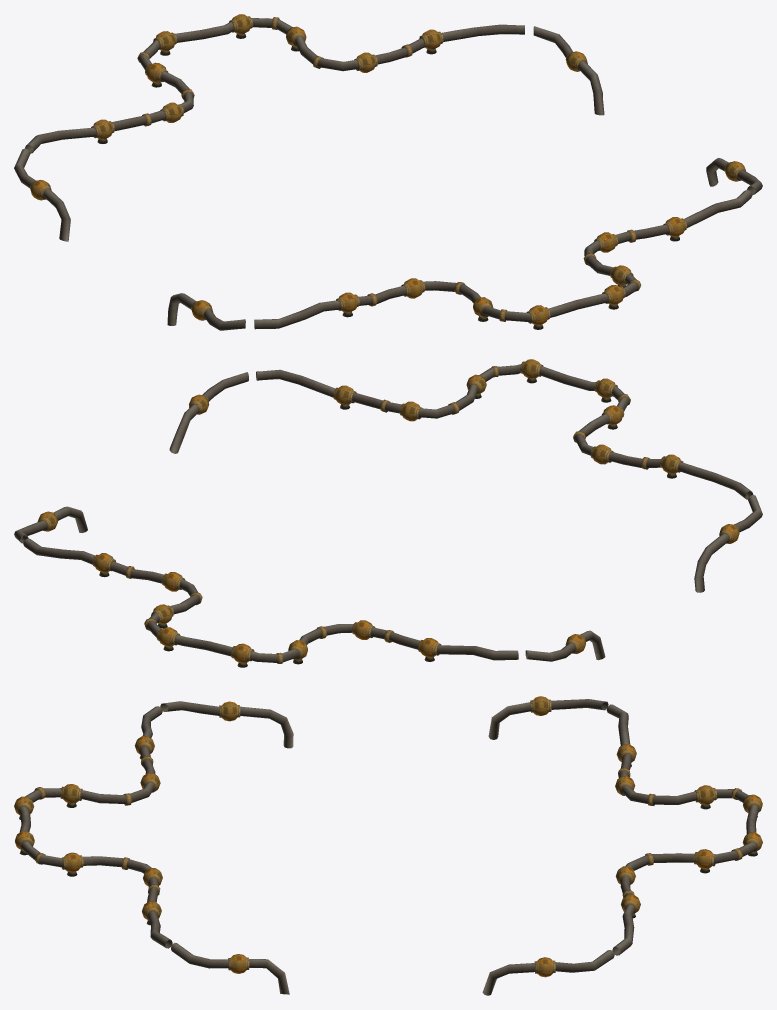
3 views of the same model, one above another, from view 1: azimuth 30°, elevation 25°; view 2: azimuth 150°, elevation 25°; view 3: azimuth 270°, elevation 25° (orthographic). The views are drawn at different scales.
Visible parts, largest first — view 1: Object021, Object023, Object005, Object019, Object022, Object018; view 2: Object023, Object021, Object019, Object005, Object018, Object022; view 3: Object021, Object023, Object005, Object019, Object022, Object018.
Boxes of the visible parts, x1,y1,x2,y2 form: Object021: (43, 189, 500, 330); Object023: (578, 61, 762, 287); Object005: (276, 19, 587, 72); Object019: (14, 55, 194, 200); Object022: (499, 279, 641, 329); Object018: (137, 14, 279, 62); Object023: (54, 367, 494, 532); Object021: (573, 397, 762, 660); Object019: (282, 620, 585, 664); Object005: (14, 511, 202, 628); Object018: (144, 618, 282, 667); Object022: (492, 359, 630, 405); Object021: (43, 701, 530, 807); Object023: (38, 852, 535, 995); Object005: (534, 849, 738, 977); Object019: (530, 696, 733, 809); Object022: (14, 787, 45, 864); Object018: (731, 788, 762, 860).
Bounding box in the file's own units: 5793 × 618 × 6885.
